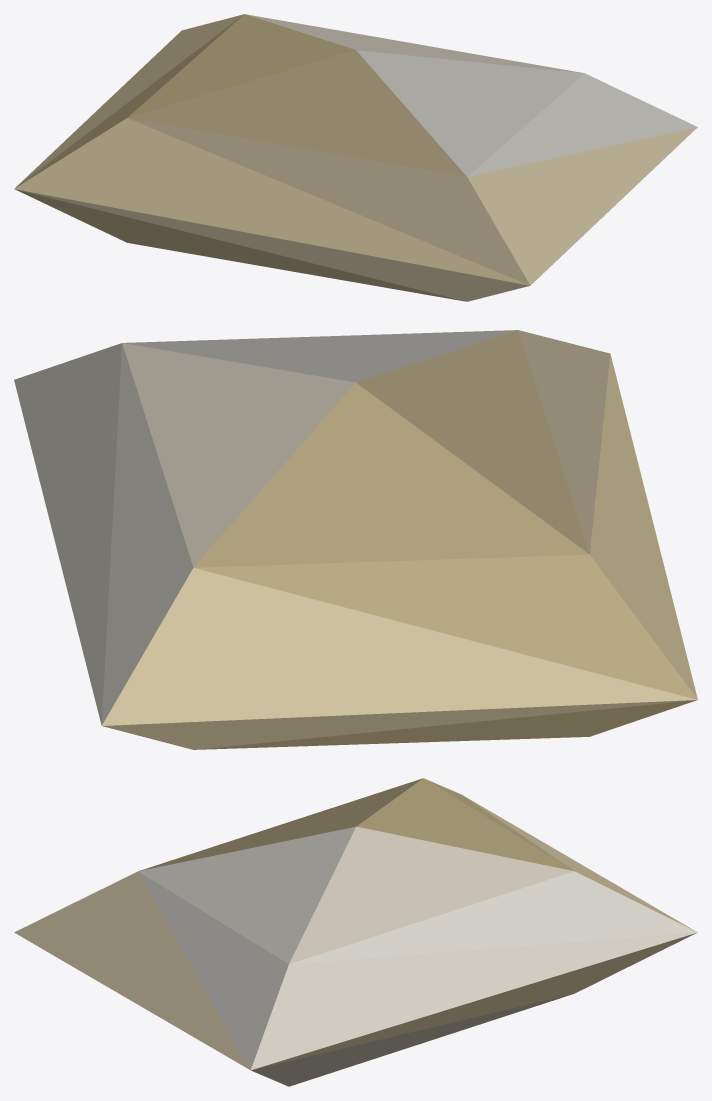
Rendered from prop_treasure_gem_diamond1.fbx.
3 renders of one model, top to bottom at view 1: azimuth 30°, elevation 25°; view 2: azimuth 150°, elevation 25°; view 3: azimuth 270°, elevation 25°, orthographic. The views are drawn at different scales.
Parts seen in each view (by area): view 1: prop_treasure_gem_diamond1; view 2: prop_treasure_gem_diamond1; view 3: prop_treasure_gem_diamond1.
Part boxes in pixels (box(x1,y1,x2,y2)): prop_treasure_gem_diamond1: box(14, 14, 697, 301); prop_treasure_gem_diamond1: box(14, 330, 697, 749); prop_treasure_gem_diamond1: box(14, 778, 697, 1086).
Bounding box in the file's own units: 0.4772 × 0.1708 × 0.5001.
